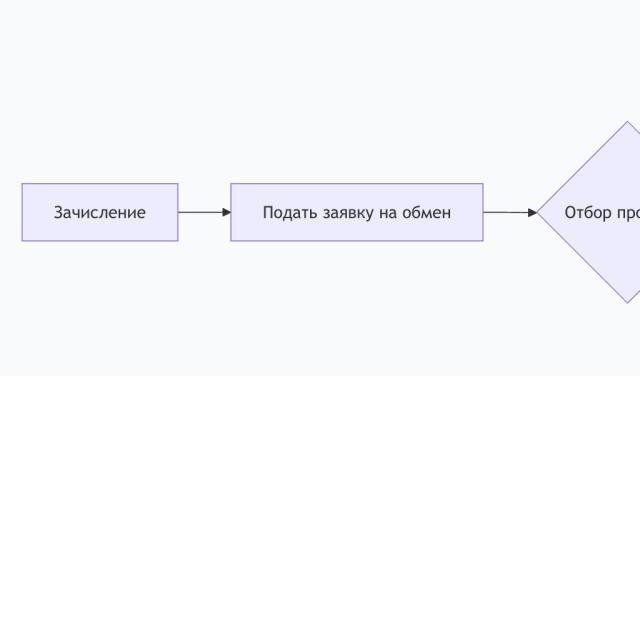arrow: (484, 206, 536, 216), (179, 209, 230, 219)
rectangle: (22, 184, 178, 241), (390, 211, 395, 218)
